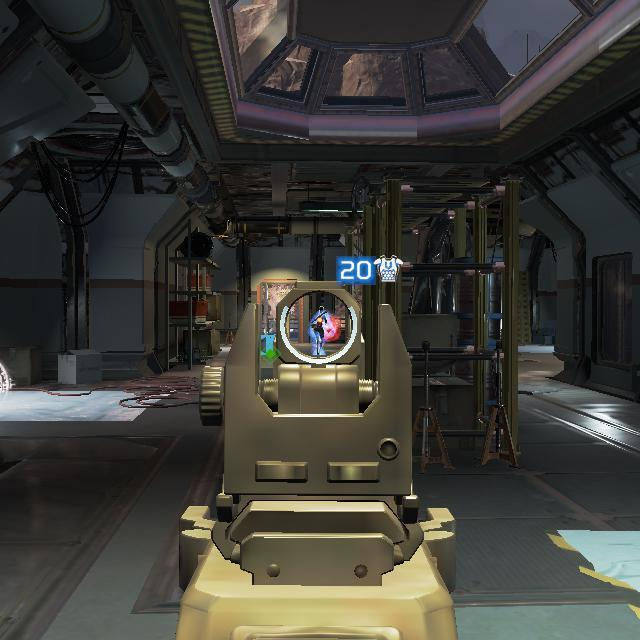avatar: (309, 303, 329, 357)
